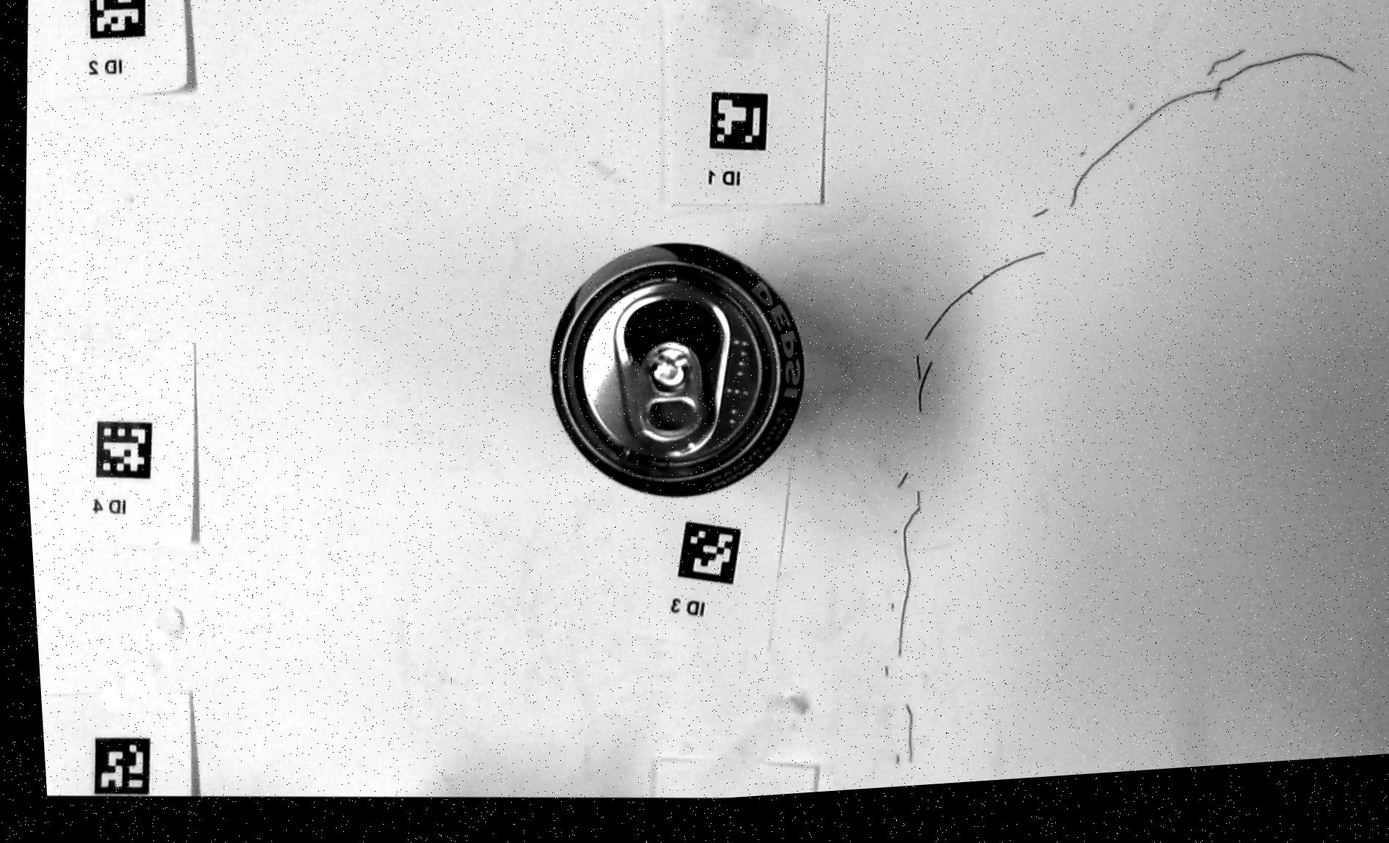can_pepsi_zero: (551, 242, 804, 495)
